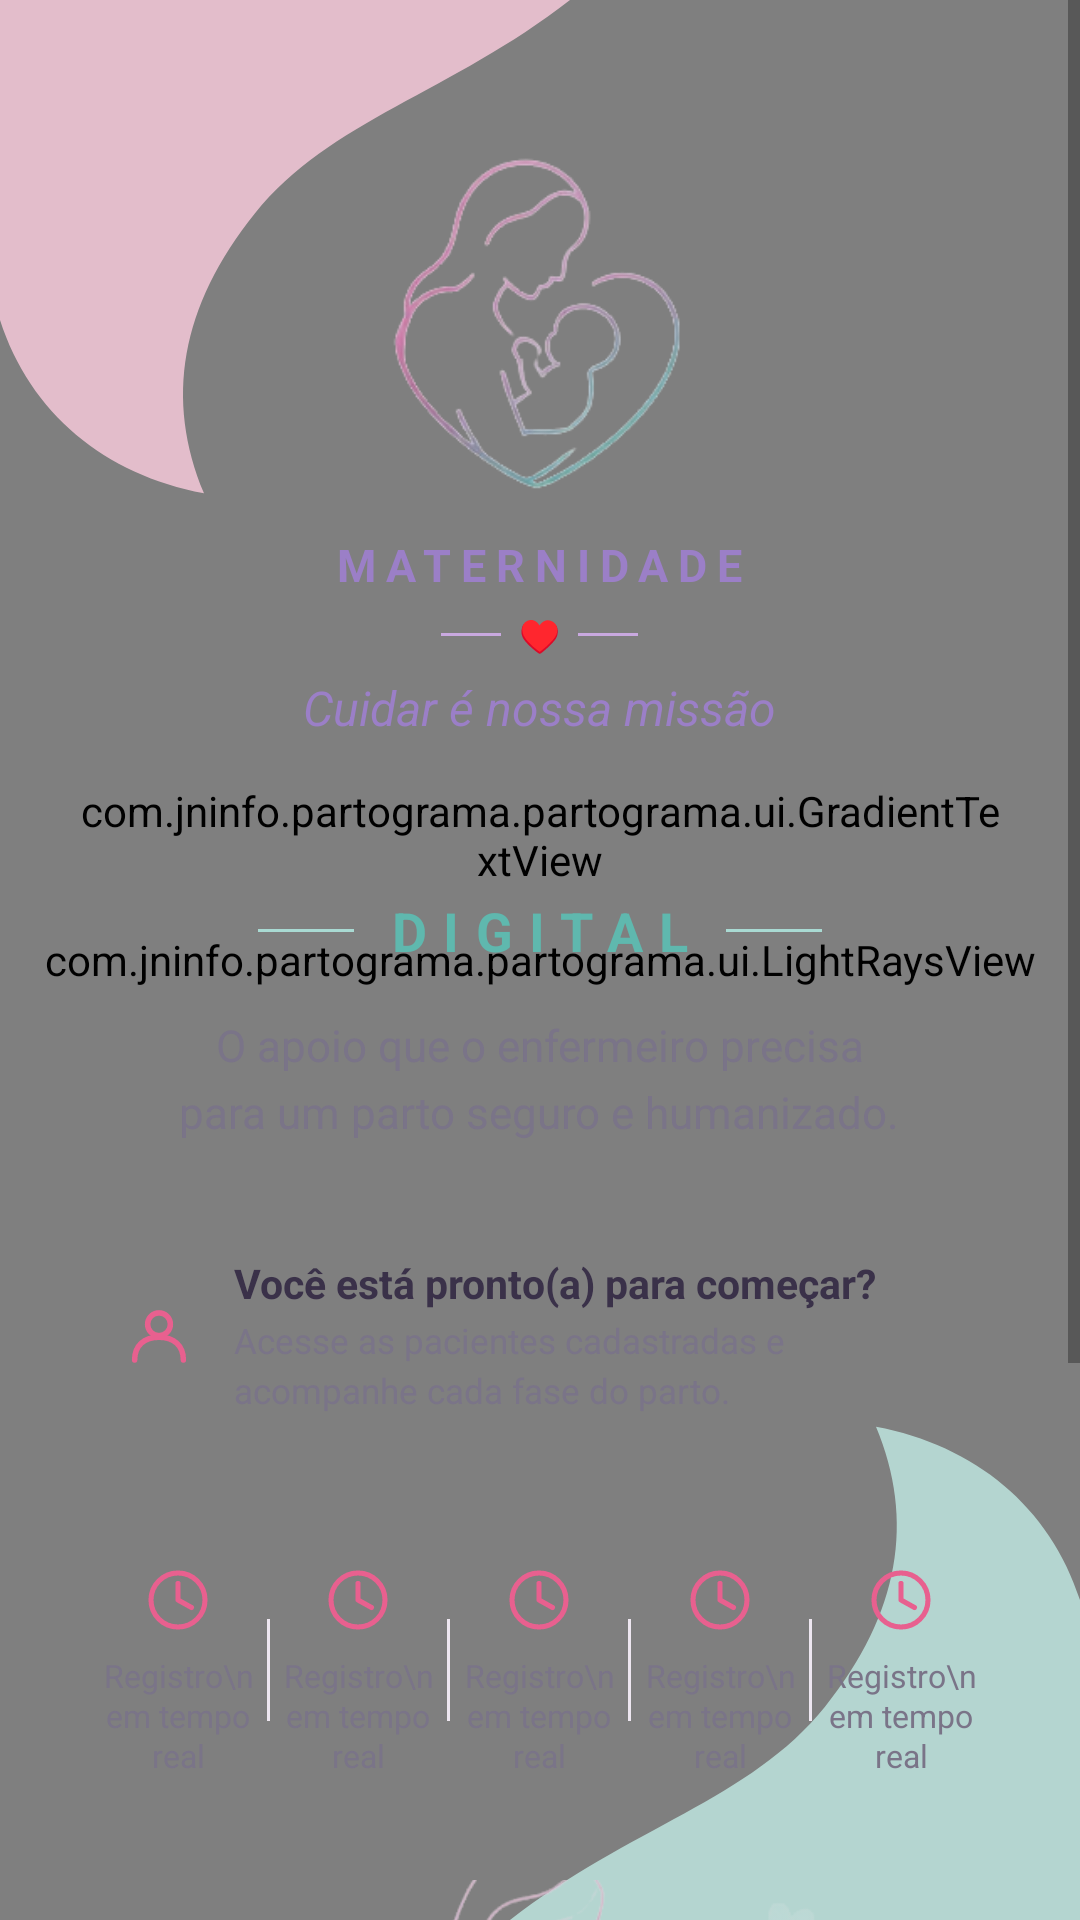

Screen size 1080 x 1920. Icon name, then its center in pixels as point (x, y):
patient: point (159, 1336)
